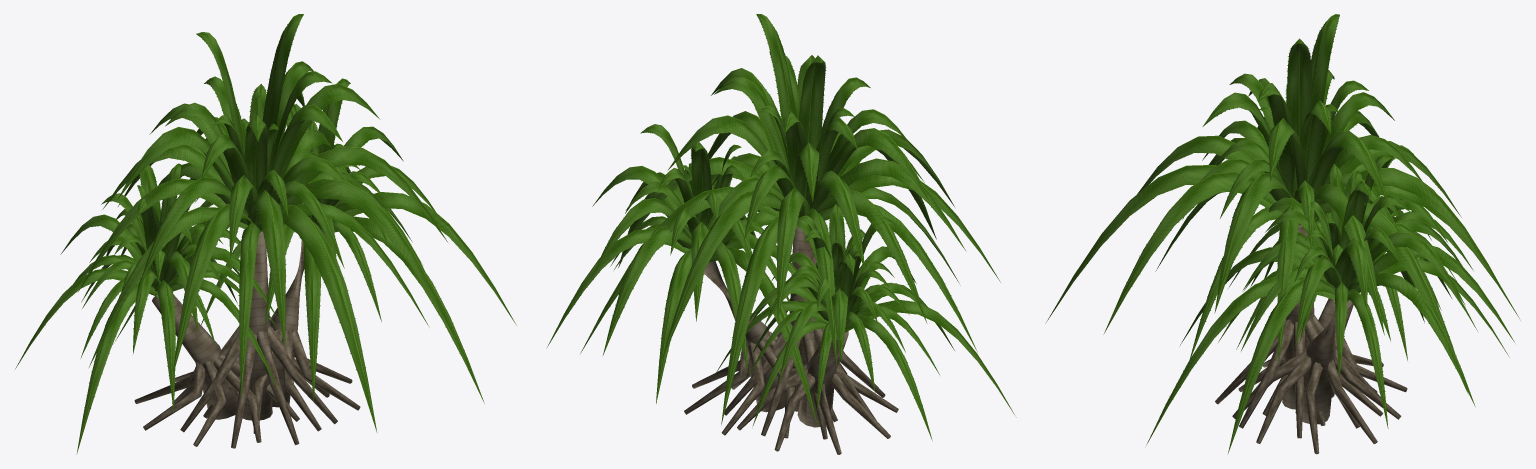
Rendered from KL_LS_Pandanus_Clump.gltf.
3 views of the same model, side by side, from view 1: azimuth 30°, elevation 25°; view 2: azimuth 150°, elevation 25°; view 3: azimuth 270°, elevation 25° (orthographic). The views are drawn at different scales.
Visible parts, largest first — view 1: TF3_KL_LS_Pandanus_Clump; view 2: TF3_KL_LS_Pandanus_Clump; view 3: TF3_KL_LS_Pandanus_Clump.
Boxes of the visible parts, bbox=[...] form: TF3_KL_LS_Pandanus_Clump: bbox=[15, 14, 516, 454]; TF3_KL_LS_Pandanus_Clump: bbox=[546, 14, 1016, 454]; TF3_KL_LS_Pandanus_Clump: bbox=[1045, 14, 1520, 454].
Size of the model in its own units: 2.8 by 2.48 by 2.76.
2 materials, 2 textured.
